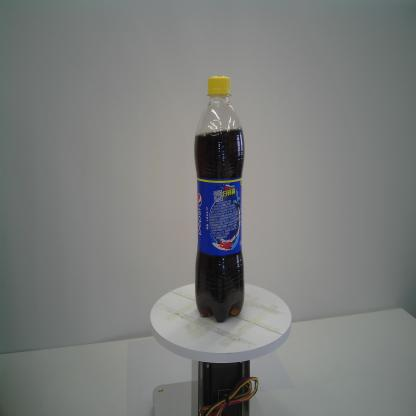Drink: (194, 74, 246, 325)
